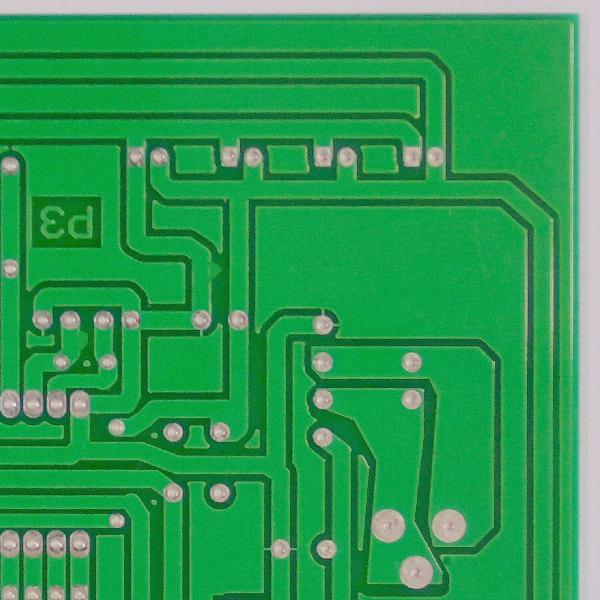spur: (201, 252, 224, 283), (70, 325, 93, 353)
